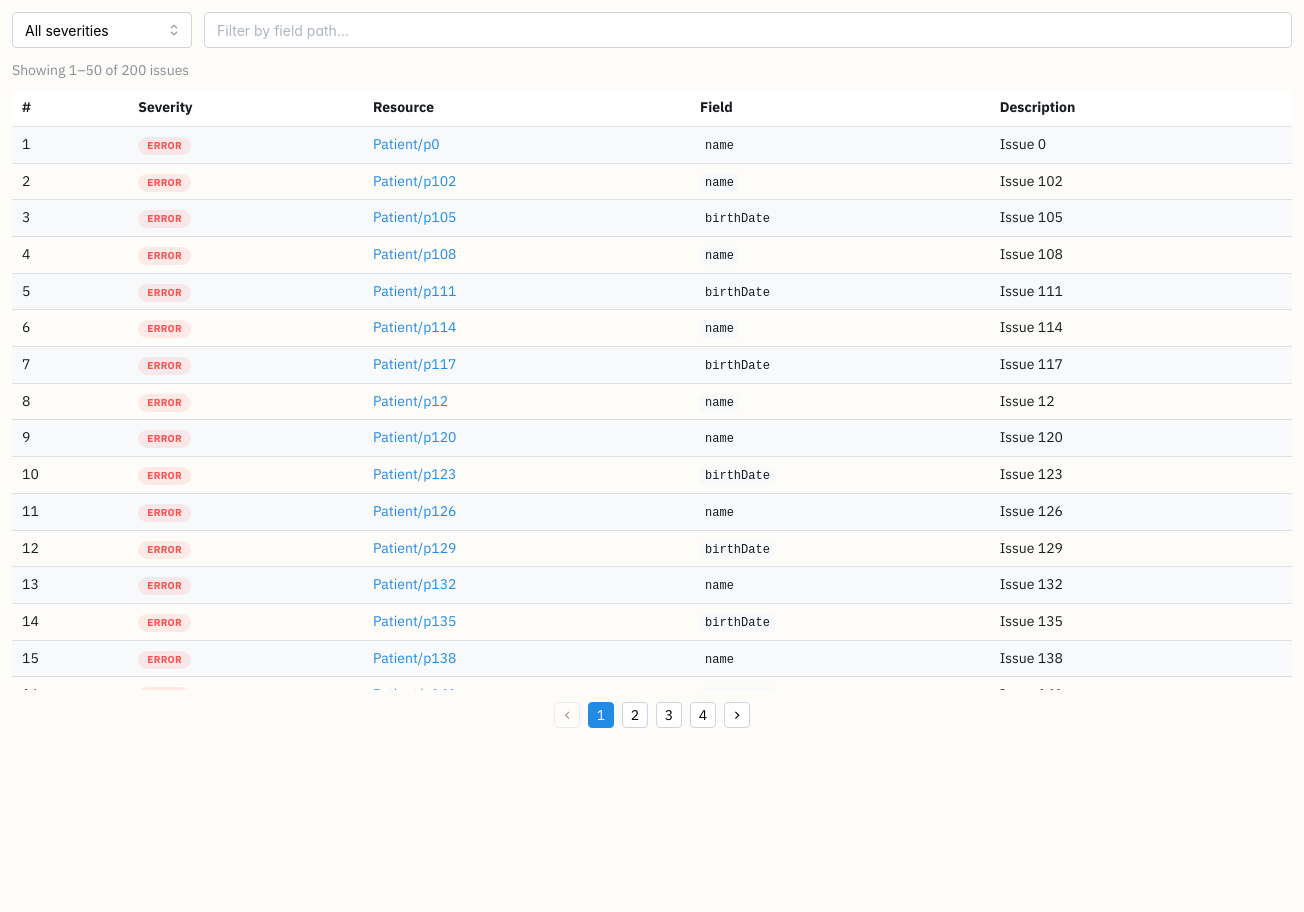
Scenario: ResourceIssueTable › page 2 yields rows 51-100 from a 200-issue input
This screenshot has width=1304, height=912.
Expected: the text "Showing 1–50 of 200 issues" is shown, [12, 61, 189, 79]
Click page 2
Click the button "2" at (635, 715), box [622, 702, 648, 728]
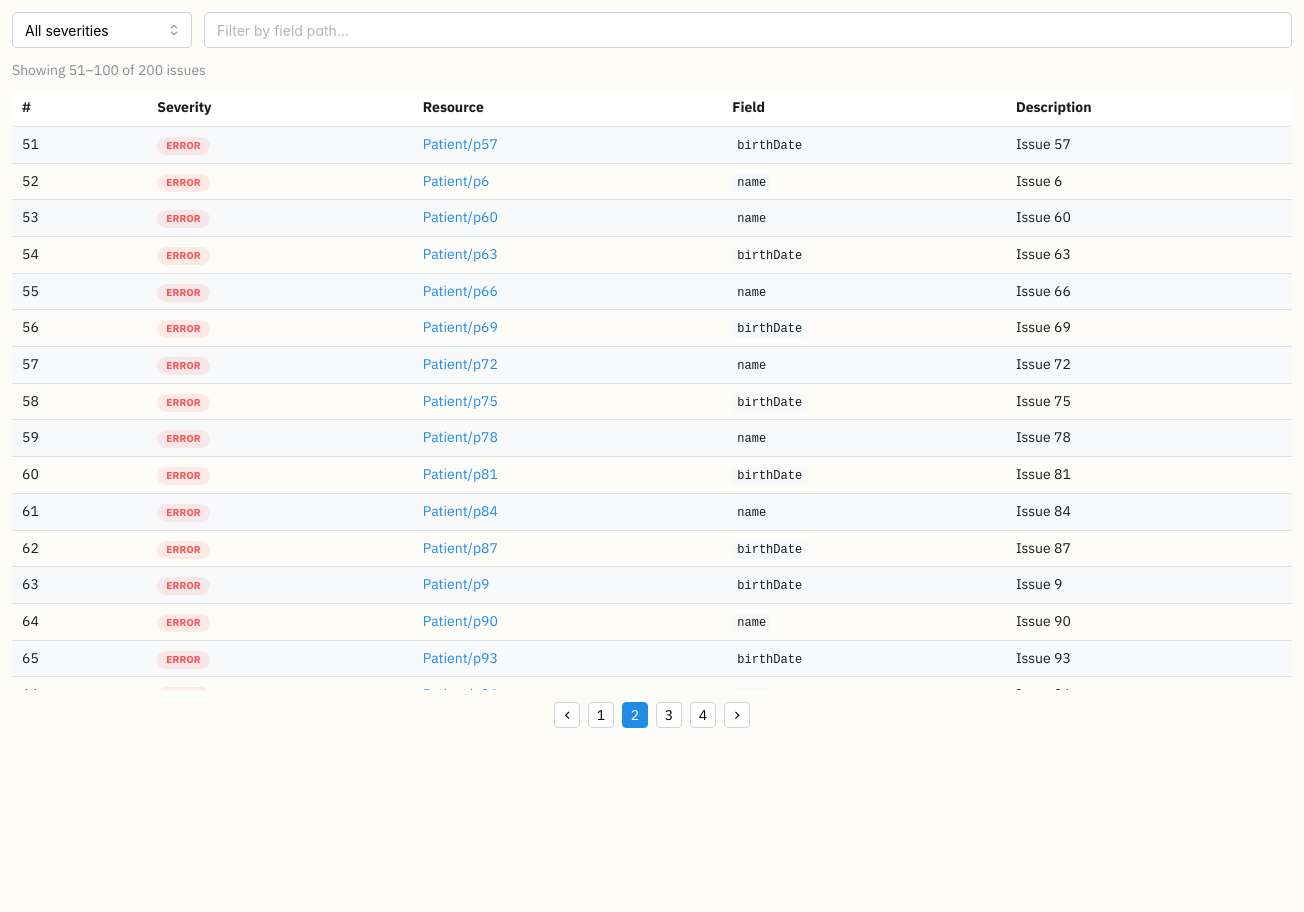
Expected: the text "Showing 51–100 of 200 issues" is shown, [12, 61, 206, 79]
Expected: the text "Showing 1–50 of 200 issues" is gone
